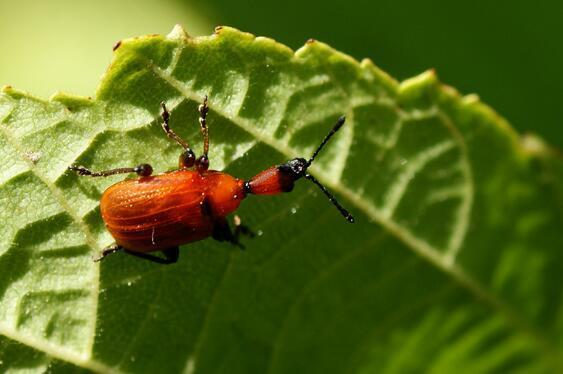weevils: (51, 72, 366, 288)
